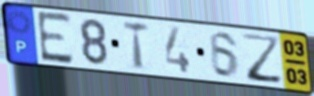4: (164, 24, 193, 76)
6: (207, 31, 242, 80)
8: (78, 17, 110, 67)
E: (35, 9, 76, 66)
T: (121, 19, 151, 72)
Z: (240, 32, 285, 86)
